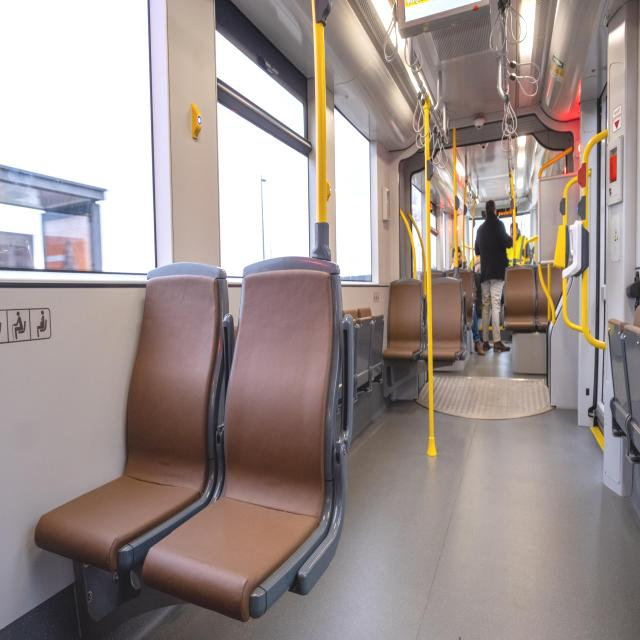asiento-libre: (142, 255, 347, 620), (32, 261, 234, 576), (606, 302, 640, 479), (423, 274, 465, 360), (381, 279, 424, 360), (501, 262, 537, 333), (352, 307, 374, 393), (539, 264, 565, 331), (455, 267, 477, 333), (367, 314, 385, 388), (618, 303, 640, 345), (443, 268, 465, 278), (356, 307, 372, 319), (428, 270, 444, 278)
